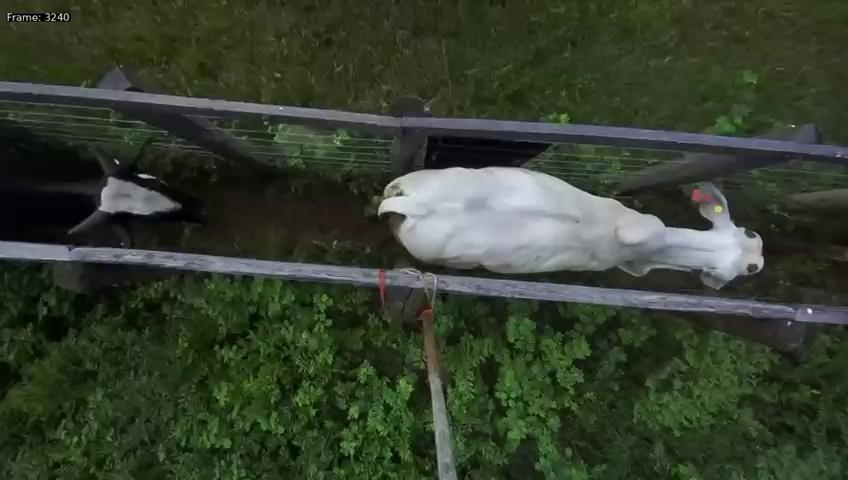cattle: (370, 151, 772, 295)
